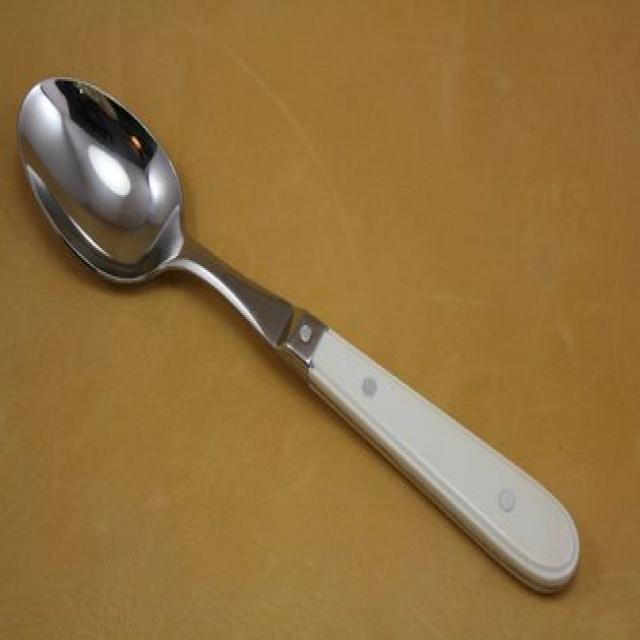spoon: (17, 70, 582, 606)
